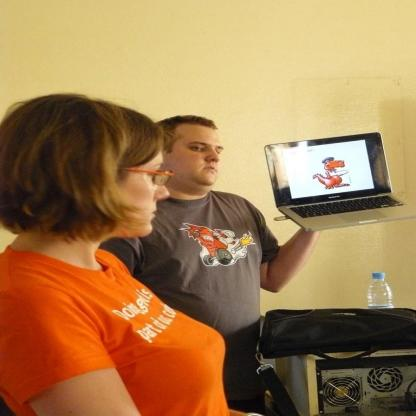board: (262, 131, 416, 232), (370, 270, 396, 310)
